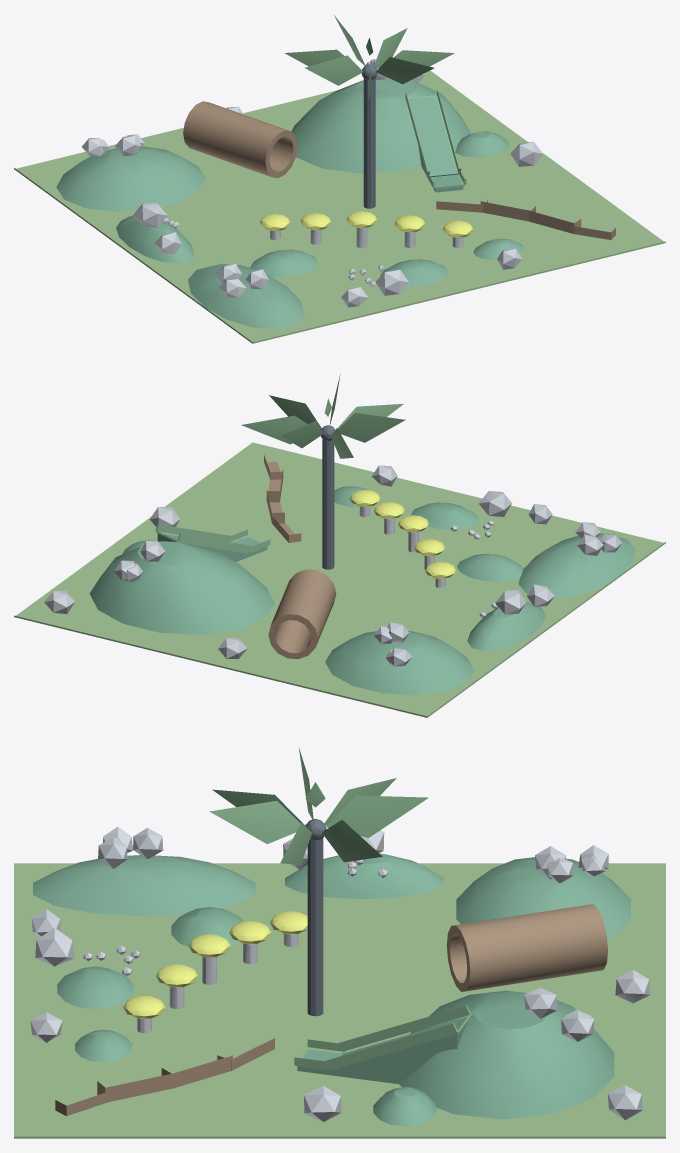
3 renders of one model, top to bottom at view 1: azimuth 30°, elevation 25°; view 2: azimuth 150°, elevation 25°; view 3: azimuth 270°, elevation 25°, orthographic. The views are drawn at different scales.
Visible parts, largest first — view 1: Safety_Pad, Terrain, Crawl_Trunk, Foliage, Tree_Canopy, Mushroom_Caps, Root_Path, Tree_Trunk, Mini_Slide, Mushroom_Stems; view 2: Safety_Pad, Terrain, Foliage, Tree_Canopy, Crawl_Trunk, Mushroom_Caps, Tree_Trunk, Mini_Slide, Root_Path, Mushroom_Stems; view 3: Safety_Pad, Terrain, Foliage, Crawl_Trunk, Tree_Canopy, Mushroom_Caps, Mini_Slide, Tree_Trunk, Root_Path, Mushroom_Stems.
Part boxes in pixels (x1=…): Safety_Pad: x1=14, y1=70, x2=665, y2=343; Terrain: x1=56, y1=78, x2=524, y2=329; Crawl_Trunk: x1=183, y1=101, x2=297, y2=178; Foliage: x1=82, y1=59, x2=543, y2=307; Tree_Canopy: x1=284, y1=15, x2=454, y2=98; Mushroom_Caps: x1=259, y1=211, x2=473, y2=237; Root_Path: x1=436, y1=200, x2=615, y2=239; Tree_Trunk: x1=361, y1=64, x2=377, y2=208; Mini_Slide: x1=405, y1=90, x2=466, y2=188; Mushroom_Stems: x1=270, y1=227, x2=463, y2=248; Safety_Pad: x1=14, y1=442, x2=665, y2=717; Terrain: x1=89, y1=486, x2=635, y2=694; Foliage: x1=44, y1=465, x2=621, y2=666; Tree_Canopy: x1=241, y1=373, x2=405, y2=458; Crawl_Trunk: x1=268, y1=569, x2=336, y2=659; Mushroom_Caps: x1=349, y1=490, x2=455, y2=578; Tree_Trunk: x1=321, y1=425, x2=335, y2=569; Mini_Slide: x1=155, y1=524, x2=270, y2=553; Root_Path: x1=264, y1=455, x2=301, y2=542; Mushroom_Stems: x1=359, y1=506, x2=445, y2=587; Safety_Pad: x1=14, y1=863, x2=665, y2=1138; Terrain: x1=33, y1=853, x2=630, y2=1126; Foliage: x1=30, y1=827, x2=650, y2=1121; Crawl_Trunk: x1=447, y1=904, x2=607, y2=991; Tree_Canopy: x1=209, y1=747, x2=428, y2=864; Mushroom_Caps: x1=123, y1=911, x2=307, y2=1018; Mini_Slide: x1=294, y1=1005, x2=470, y2=1070; Tree_Trunk: x1=305, y1=819, x2=326, y2=1016; Root_Path: x1=55, y1=1038, x2=274, y2=1116; Mushroom_Stems: x1=137, y1=934, x2=298, y2=1033.
Size of what is drawn, in the model's own units: 8 by 3.15 by 8.
Materials: 8 (2 with a texture image).
